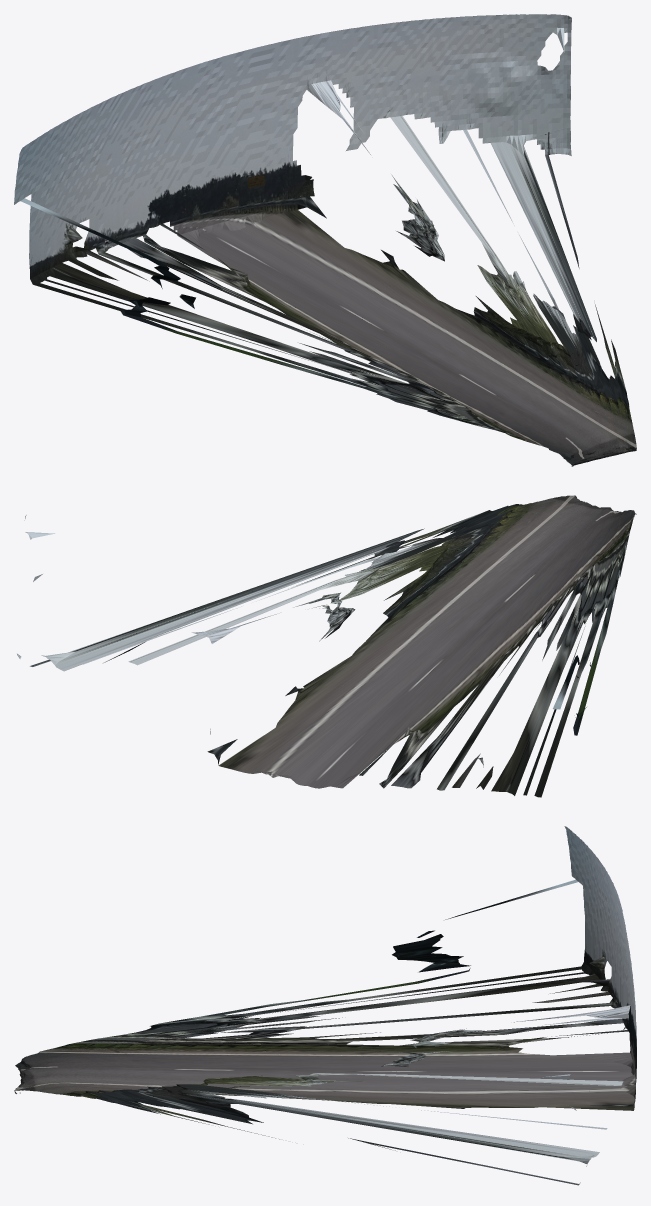
3 renders of one model, top to bottom at view 1: azimuth 30°, elevation 25°; view 2: azimuth 150°, elevation 25°; view 3: azimuth 270°, elevation 25°, orthographic. The views are drawn at different scales.
Parts seen in each view (by area): view 1: defaultobject; view 2: defaultobject; view 3: defaultobject.
Boxes of the visible parts, bbox=[...] form: defaultobject: bbox=[14, 14, 636, 466]; defaultobject: bbox=[17, 495, 636, 797]; defaultobject: bbox=[14, 826, 636, 1185].
Size of the model in its own units: 41.02 by 12.47 by 44.56.
Materials: 1 (1 with a texture image).
